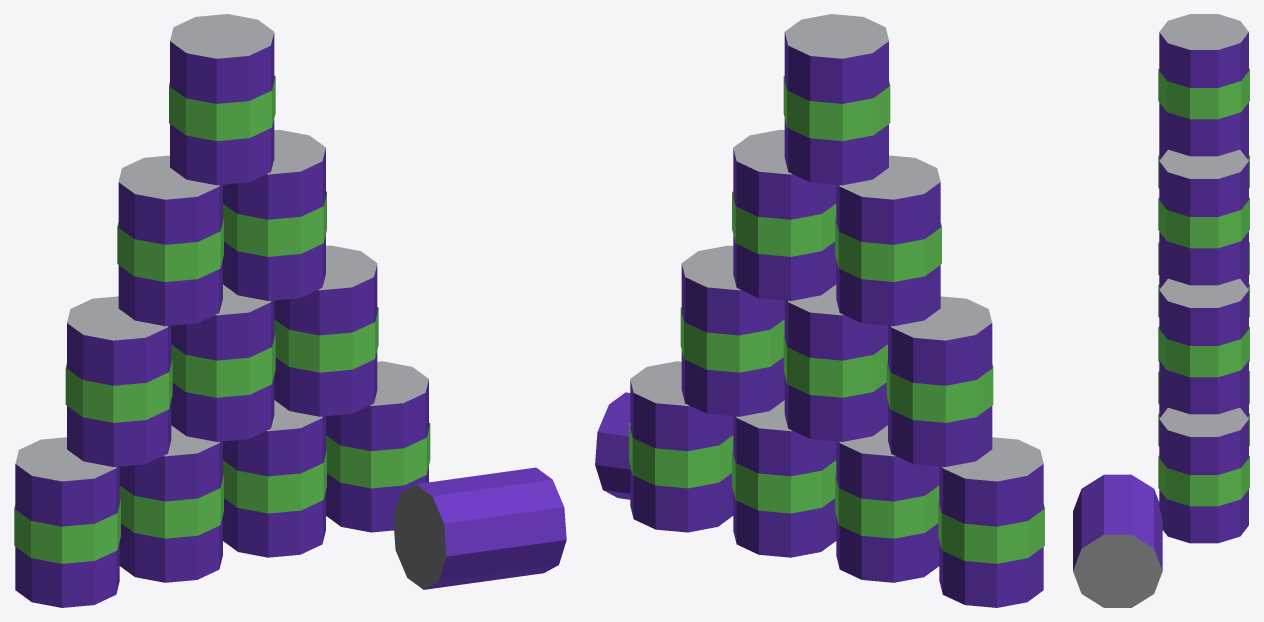
Rendered from can_pyramid.glb.
3 renders of one model, left to right at view 1: azimuth 30°, elevation 25°; view 2: azimuth 150°, elevation 25°; view 3: azimuth 270°, elevation 25°, orthographic. The views are drawn at different scales.
Parts seen in each view (by area): view 1: body; view 2: body; view 3: body.
Part boxes in pixels (x1,y1,x2,y2): body: (14, 14, 566, 607); body: (595, 14, 1044, 607); body: (1073, 14, 1249, 607).
Bounding box in the file's own units: 1.32 × 1.5 × 0.513.
